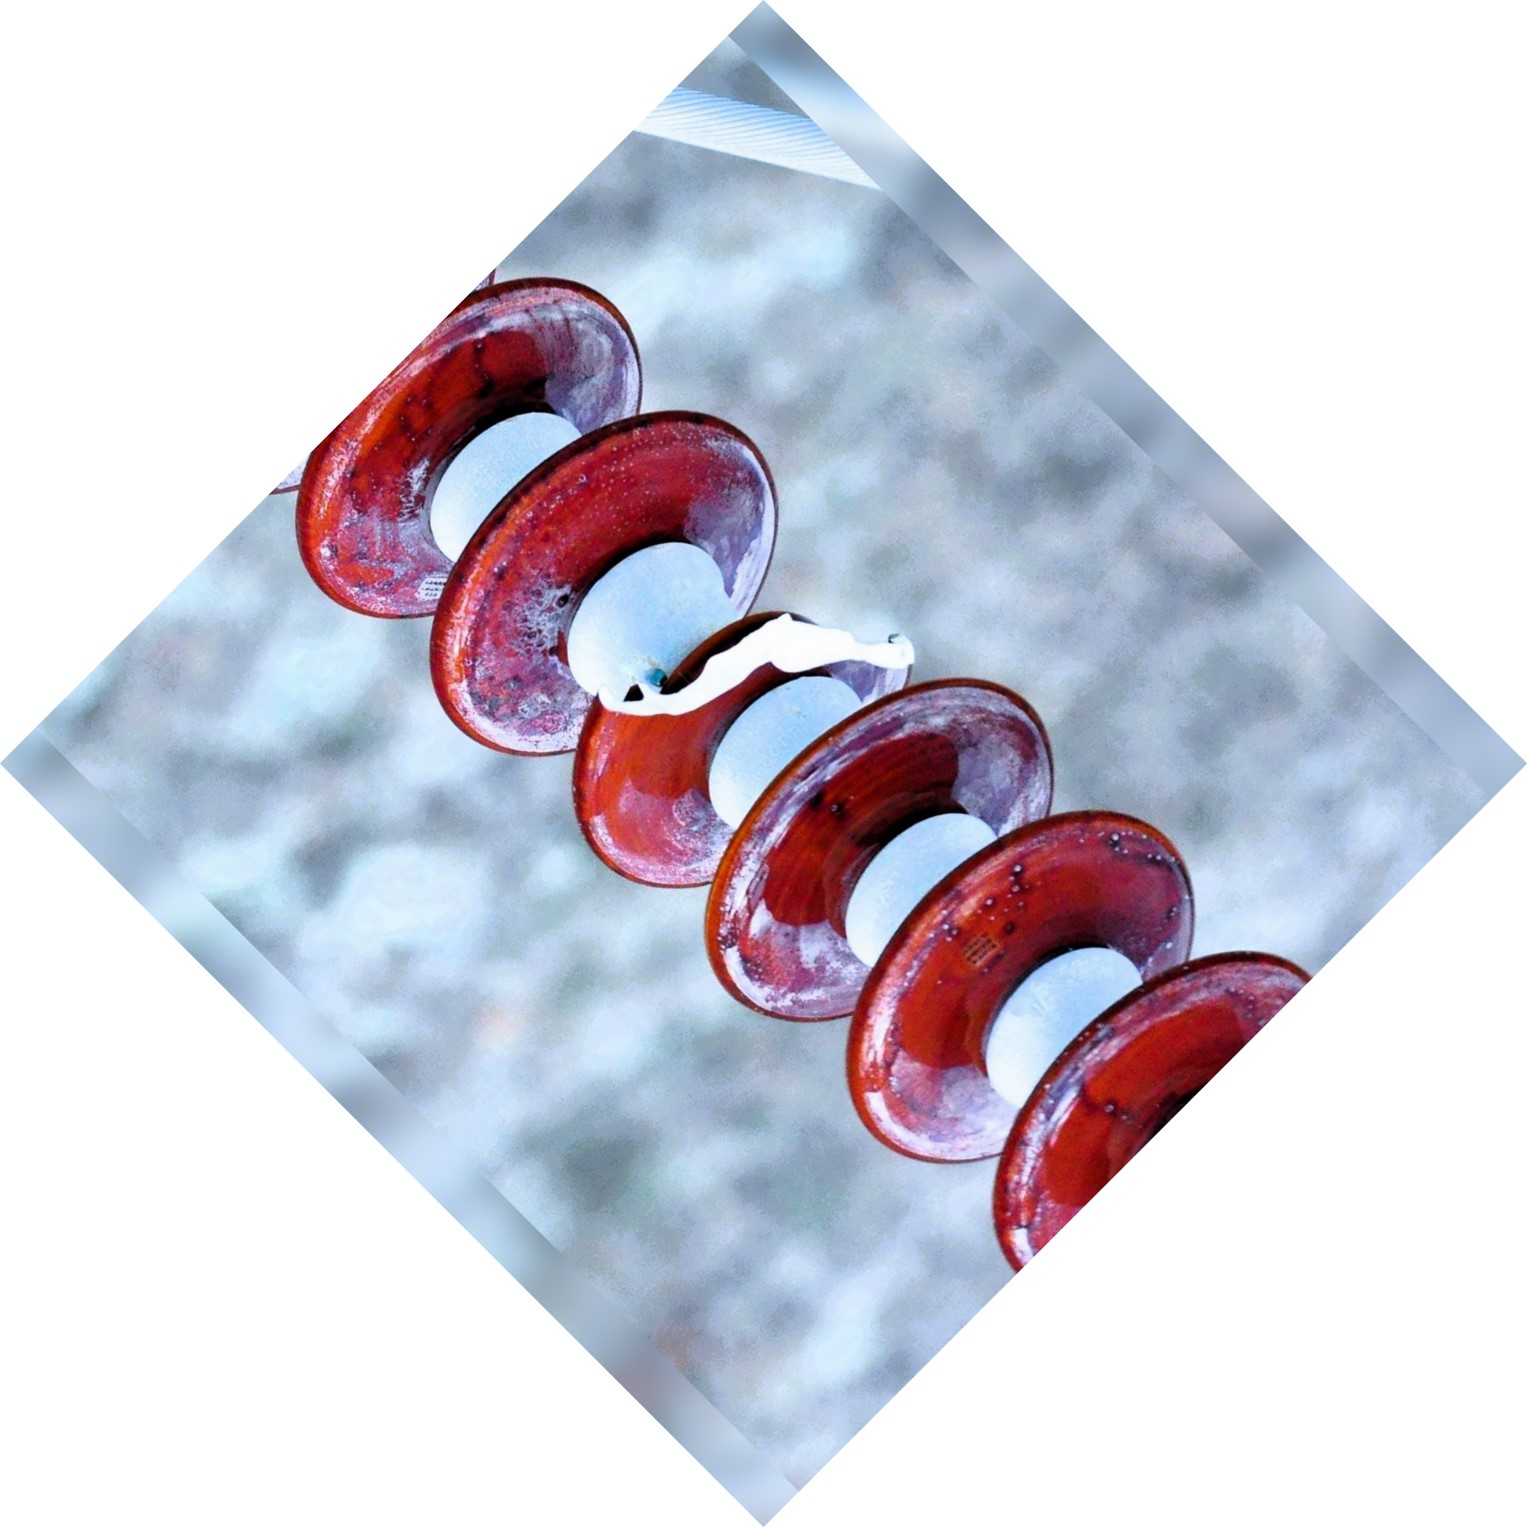insulator breakage: (571, 604, 929, 896)
